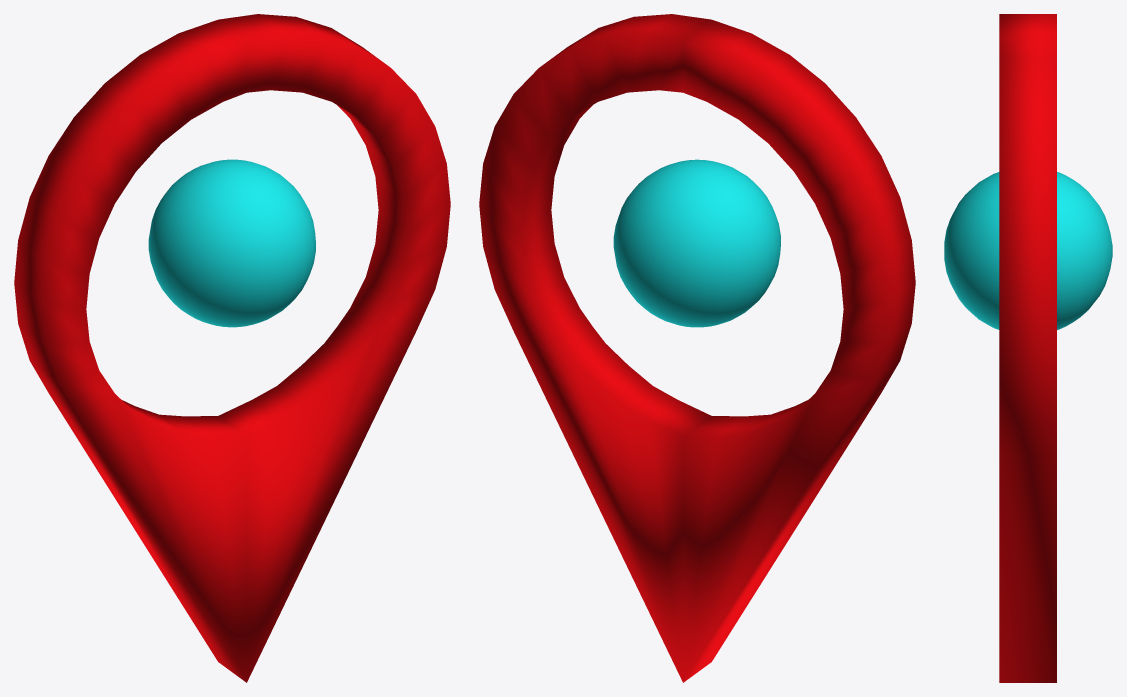
The model's file is current_location.fbx.
3 views of the same model, side by side, from view 1: azimuth 30°, elevation 25°; view 2: azimuth 150°, elevation 25°; view 3: azimuth 270°, elevation 25° (orthographic).
Parts seen in each view (by area): view 1: Circle.001, Sphere.001; view 2: Circle.001, Sphere.001; view 3: Circle.001, Sphere.001.
Boxes of the visible parts, <box> form: Circle.001: <box>14,14,450,682</box>; Sphere.001: <box>148,159,315,327</box>; Circle.001: <box>479,14,915,682</box>; Sphere.001: <box>613,159,780,327</box>; Circle.001: <box>999,14,1056,682</box>; Sphere.001: <box>944,172,1112,329</box>.
Bounding box in the file's own units: 140 × 210 × 49.48.
